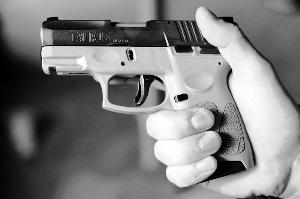handgun: (34, 14, 262, 191)
